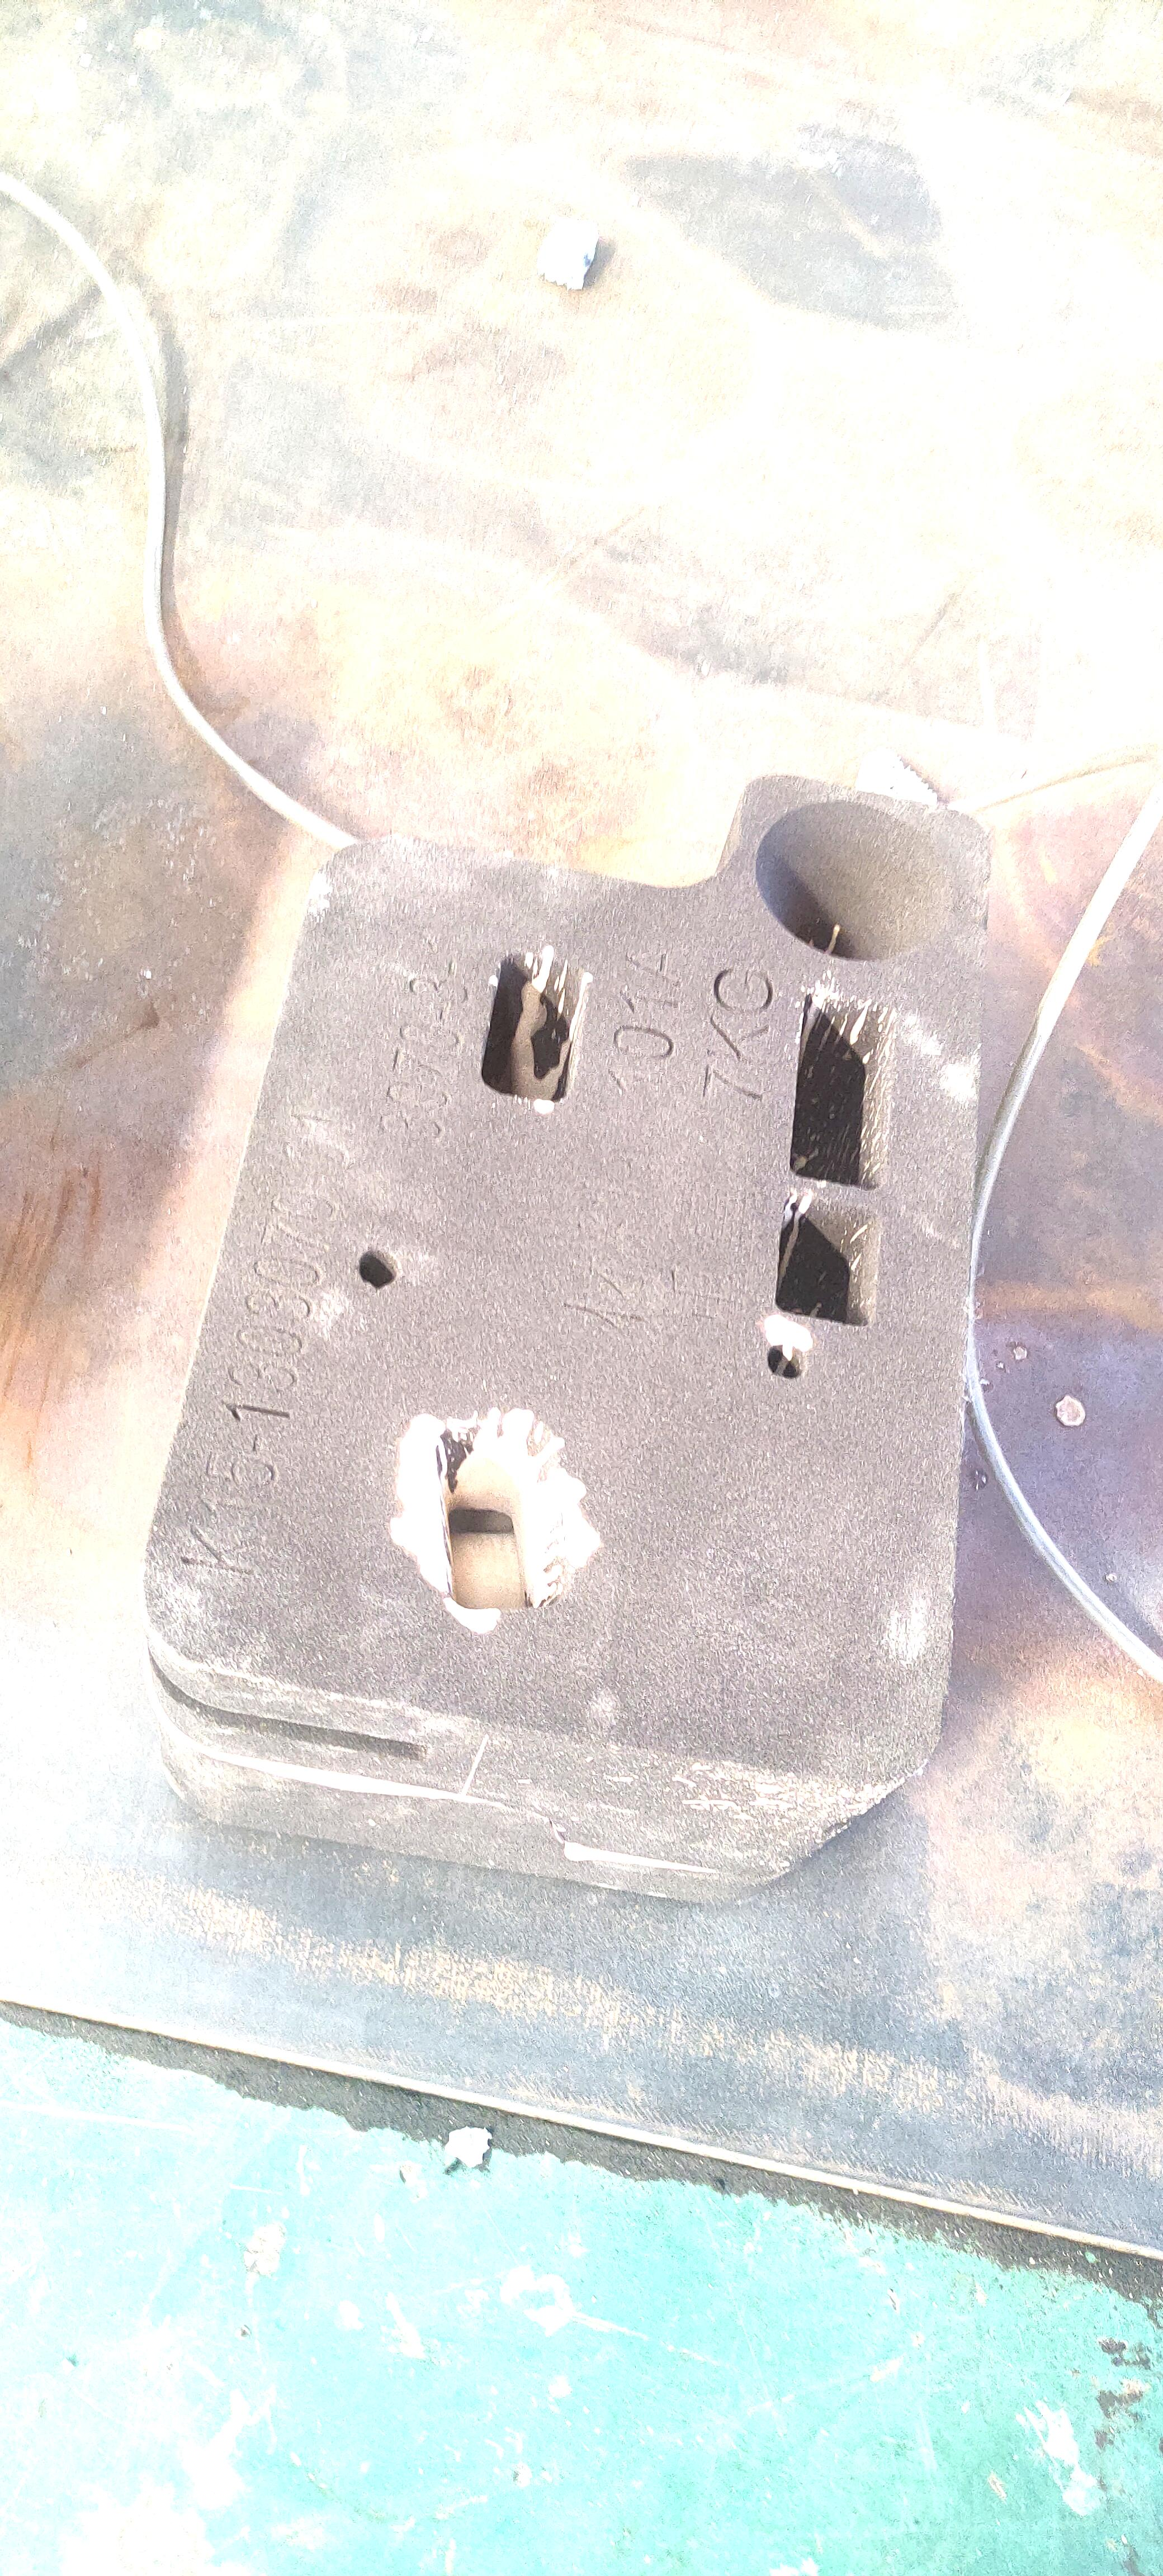pouring hole: (754, 798, 938, 959)
